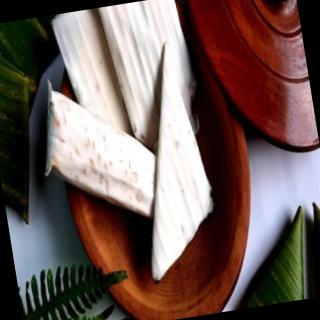Tempe: (37, 72, 167, 233)
